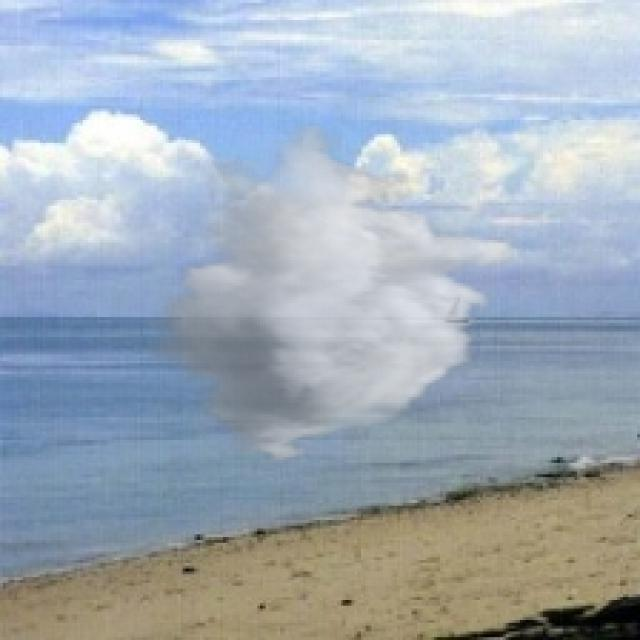smoke: (137, 123, 514, 466)
